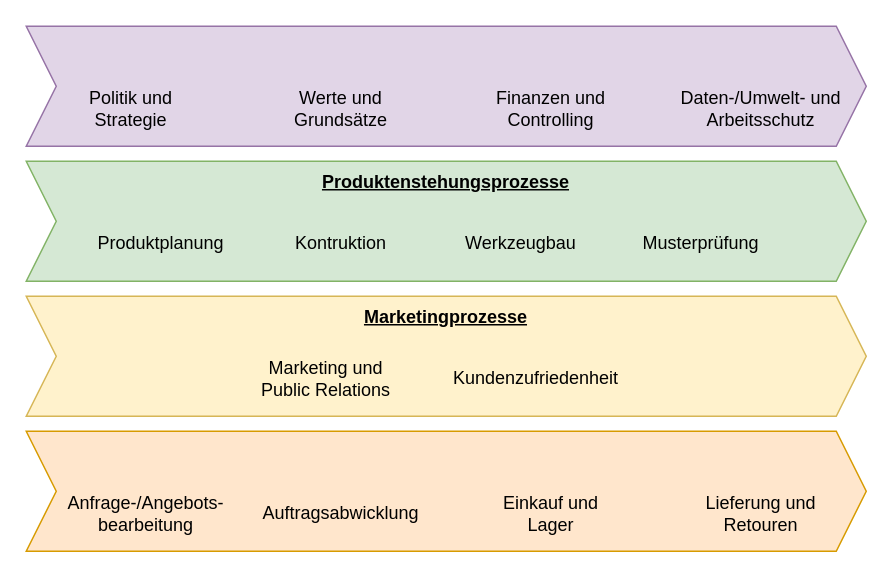
Some shapes in this 893 by 578 pixel diagram are drawn without their labels. The shapes that lost their labels are listed below. From the top down, each one's box as (x1, y1, x2, y2) in pixels, then its label:
(25, 25, 866, 146): Managementprozesse
(25, 430, 866, 551): Vertriebs- und Auftragsabwicklungsprozesse
